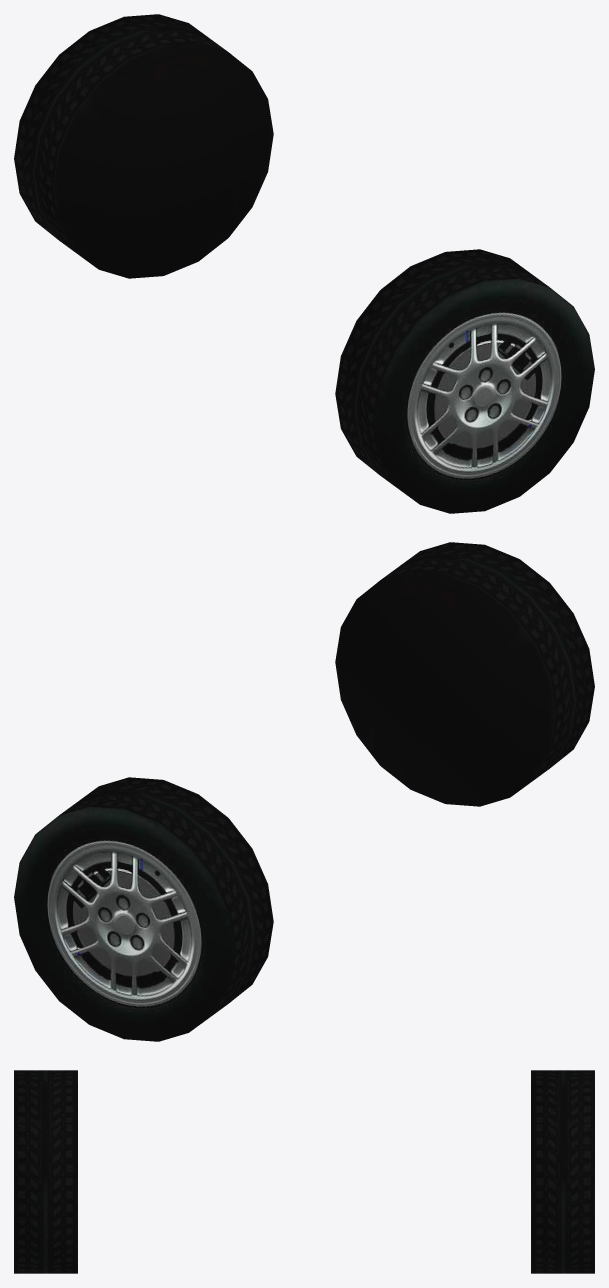
Rendered from wheels_1x_02.glb.
3 renders of one model, top to bottom at view 1: azimuth 30°, elevation 25°; view 2: azimuth 150°, elevation 25°; view 3: azimuth 270°, elevation 25°, orthographic. The views are drawn at different scales.
Parts seen in each view (by area): view 1: Object_2; view 2: Object_2; view 3: Object_2.
Part boxes in pixels (box(x1,y1,x2,y2)): Object_2: box(14, 14, 594, 513); Object_2: box(14, 542, 594, 1041); Object_2: box(14, 1070, 594, 1273).
Bounding box in the file's own units: 0.3907 × 0.3907 × 1.11.
Materials: 1 (1 with a texture image).
